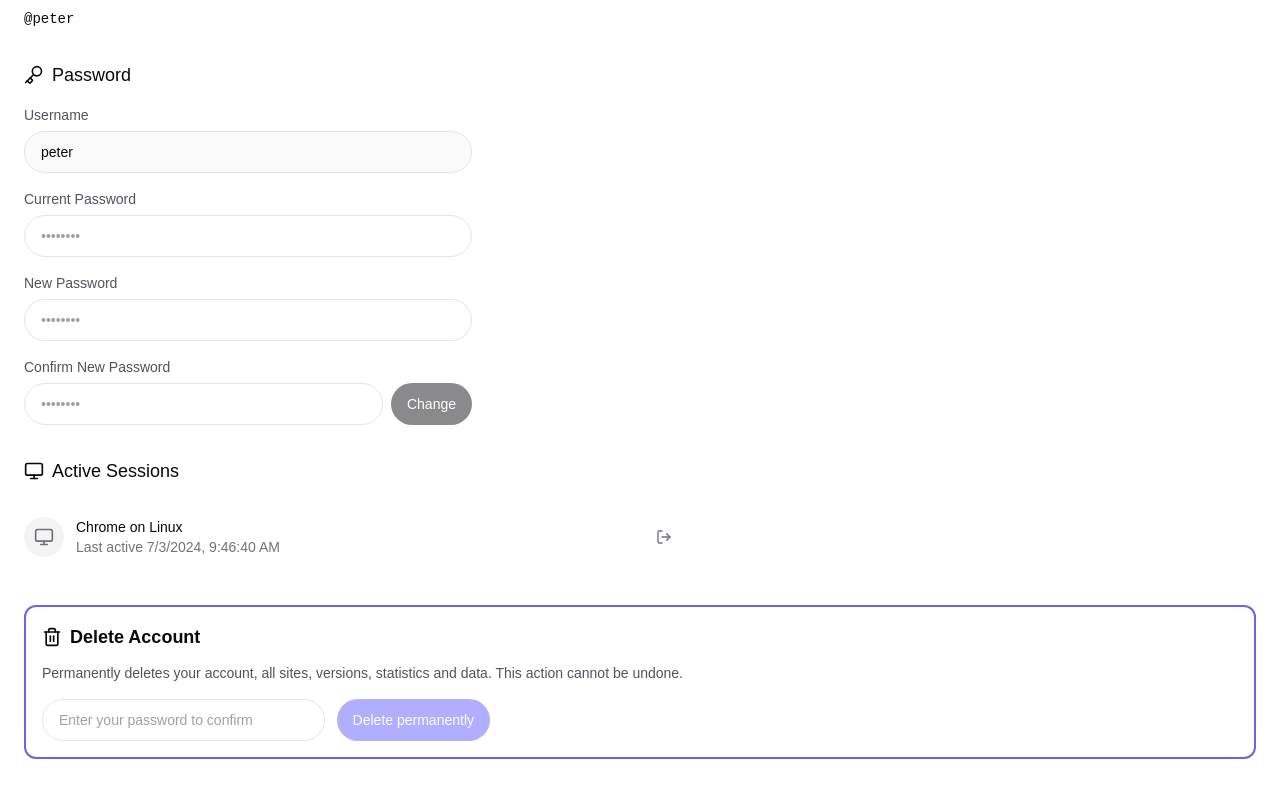
it: SettingsSection › shows an error toast when account deletion fails
(page scrolled)
Type "wrong" into the password field with placeholder "Enter your password to confirm".
click(183, 720); type("wrong")  # box [42,699,325,741]
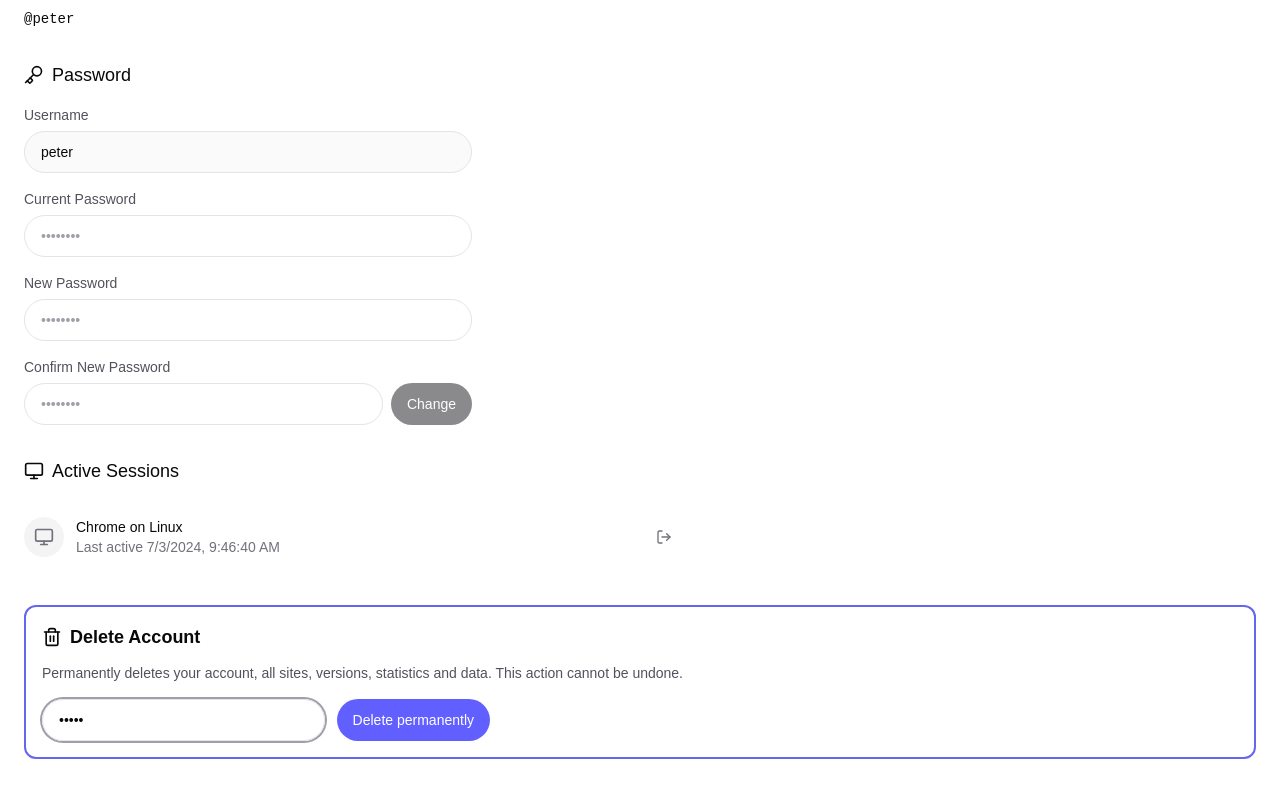
Click the button "Delete permanently".
click(413, 720)  # box [337,699,490,741]
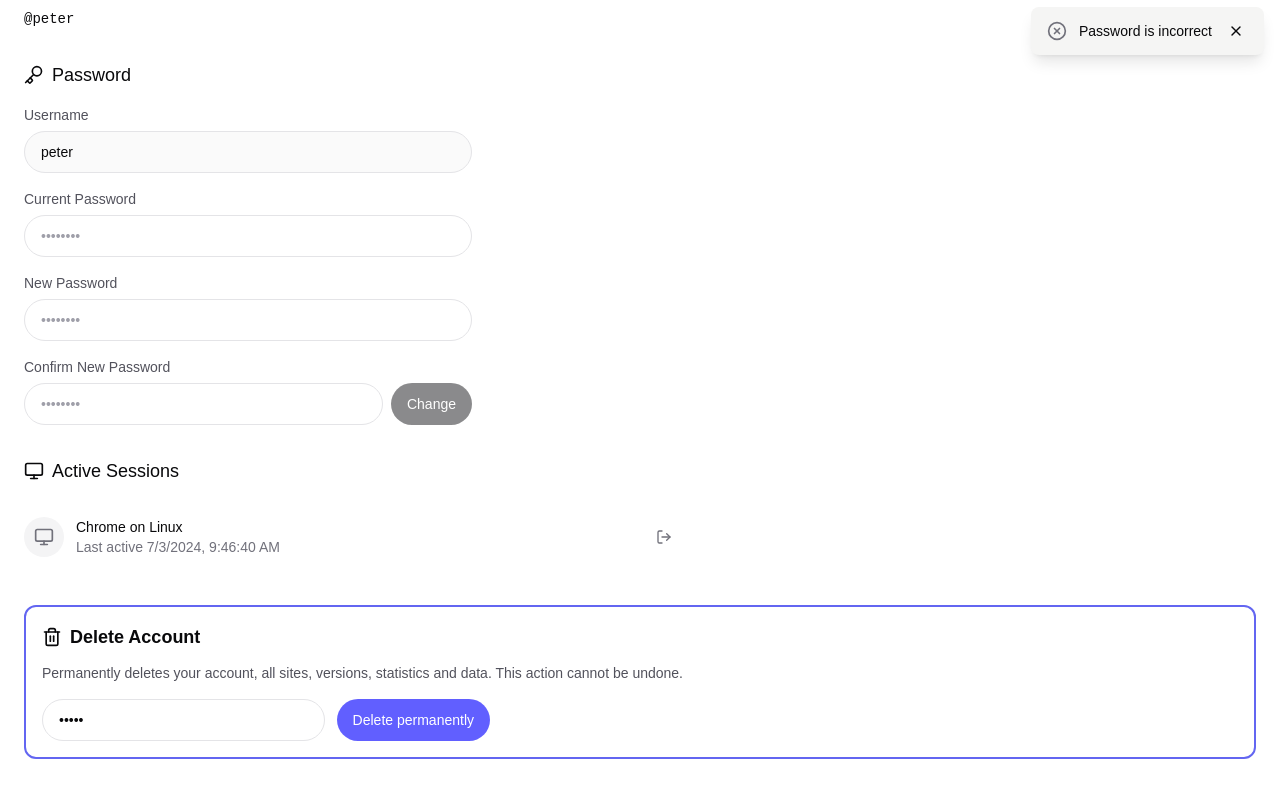
Expected: the text "Password is incorrect" is shown, [1079,21,1212,41]
